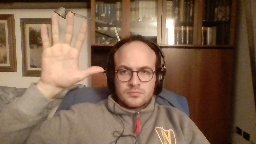Mano_aperta: (37, 8, 105, 91)
